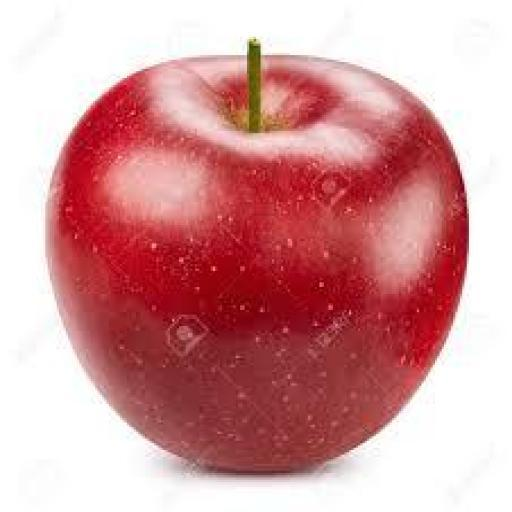apple: (48, 56, 468, 470)
